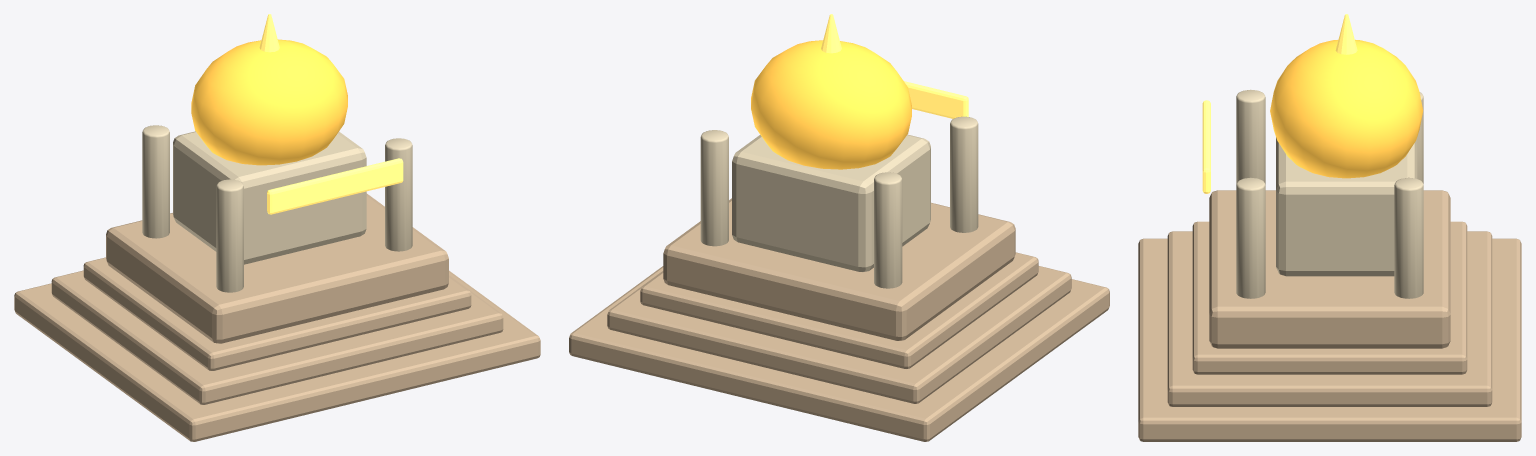
File: temple.glb
3 renders of one model, left to right at view 1: azimuth 30°, elevation 25°; view 2: azimuth 150°, elevation 25°; view 3: azimuth 270°, elevation 25°, orthographic. The views are drawn at different scales.
Visible parts, largest first — view 1: Temple_Platform, Temple_Step_0, Temple_Step_1, Temple_Dome, Temple_Shrine, Temple_Step_2, Temple_Arch_Sign, Temple_Pillar, Temple_Pillar.001, Temple_Pillar.002; view 2: Temple_Platform, Temple_Step_0, Temple_Shrine, Temple_Step_1, Temple_Dome, Temple_Step_2, Temple_Pillar.001, Temple_Pillar.003, Temple_Pillar, Temple_Arch_Sign; view 3: Temple_Step_0, Temple_Platform, Temple_Step_1, Temple_Dome, Temple_Shrine, Temple_Step_2, Temple_Pillar.002, Temple_Pillar.003, Temple_Pillar, Temple_Arch_Sign, Temple_Spire, Temple_Pillar.001.
Part boxes in pixels (box(x1,y1,x2,y2)): Temple_Platform: box(106, 193, 448, 343); Temple_Step_0: box(14, 270, 540, 441); Temple_Step_1: box(51, 270, 503, 404); Temple_Dome: box(191, 39, 347, 165); Temple_Shrine: box(173, 131, 366, 264); Temple_Step_2: box(83, 257, 471, 370); Temple_Arch_Sign: box(267, 158, 403, 214); Temple_Pillar: box(216, 179, 243, 292); Temple_Pillar.001: box(142, 125, 169, 238); Temple_Pillar.002: box(385, 138, 412, 251); Temple_Platform: box(663, 198, 1015, 340); Temple_Step_0: box(569, 266, 1109, 441); Temple_Shrine: box(732, 134, 930, 272); Temple_Step_1: box(607, 266, 1071, 403); Temple_Dome: box(751, 40, 911, 169); Temple_Step_2: box(640, 252, 1038, 368); Temple_Pillar.001: box(874, 172, 902, 288); Temple_Pillar.003: box(700, 130, 728, 246); Temple_Pillar: box(950, 116, 978, 232); Temple_Arch_Sign: box(904, 81, 968, 118); Temple_Step_0: box(1138, 238, 1521, 441); Temple_Platform: box(1209, 190, 1450, 348); Temple_Step_1: box(1167, 231, 1492, 406); Temple_Dome: box(1270, 39, 1423, 178); Temple_Shrine: box(1276, 137, 1417, 276); Temple_Step_2: box(1192, 221, 1467, 374); Temple_Pillar.002: box(1236, 177, 1265, 298); Temple_Pillar.003: box(1394, 177, 1423, 298); Temple_Pillar: box(1236, 89, 1265, 184); Temple_Arch_Sign: box(1202, 100, 1210, 193); Temple_Spire: box(1335, 14, 1357, 54); Temple_Pillar.001: box(1417, 92, 1423, 183).
Bounding box in the file's own units: 5.2 × 4.48 × 4.6.
